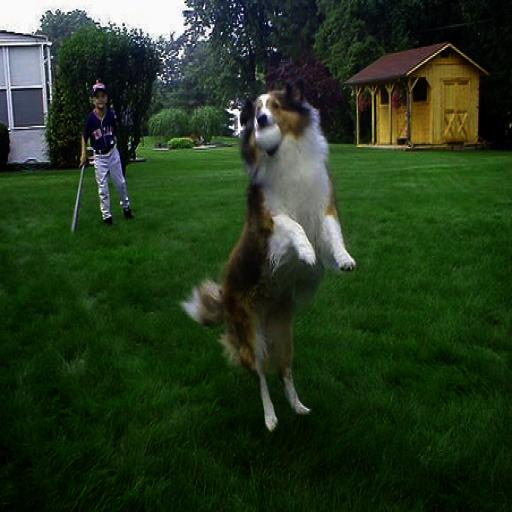dog_face: (238, 87, 311, 158)
